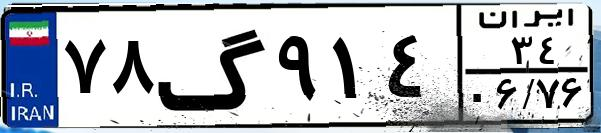0: (470, 70, 495, 125)
1: (330, 28, 385, 110)
3: (508, 27, 537, 80)
4: (385, 28, 445, 110), (537, 27, 568, 80)
6: (560, 70, 590, 125), (495, 70, 520, 125)
7: (57, 26, 110, 100), (535, 70, 560, 125)
8: (110, 28, 156, 98)
9: (270, 28, 330, 110)
گ: (156, 12, 270, 120)
